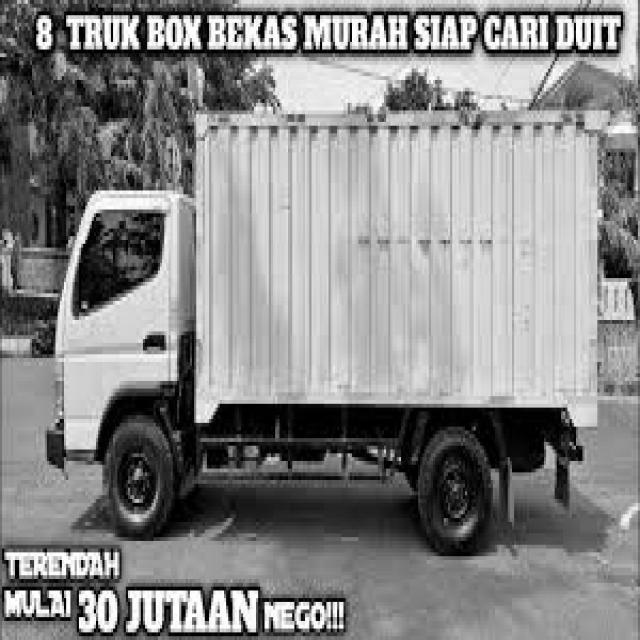truck: (28, 163, 232, 553)
